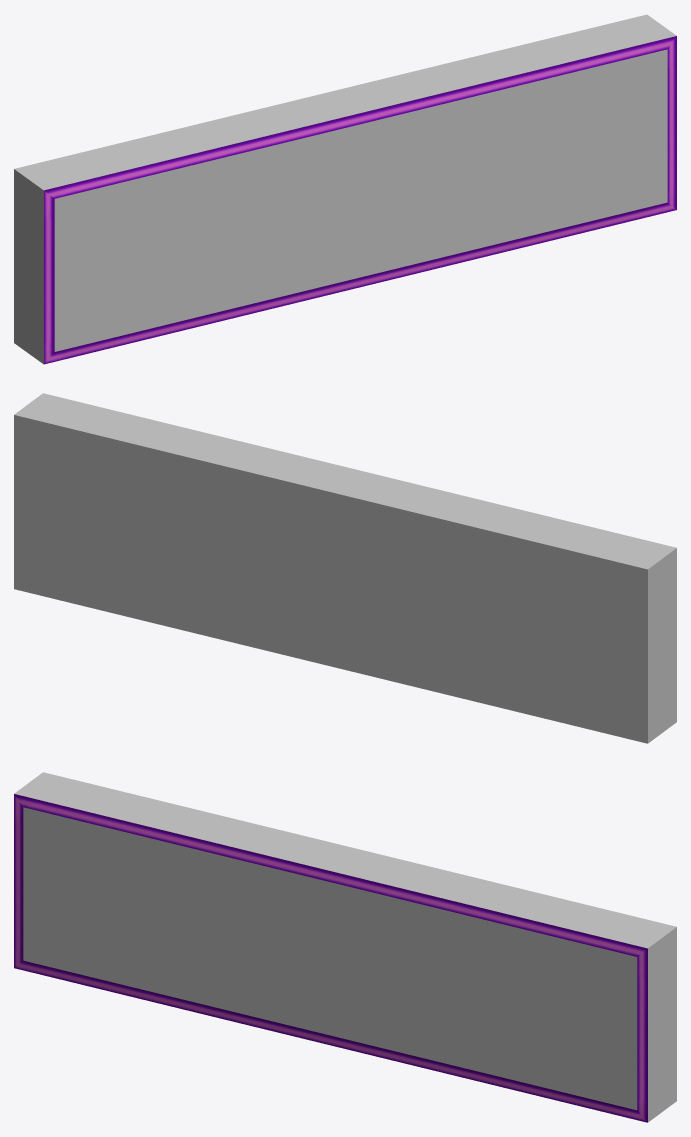
Rendered from sign_13.fbx.
3 renders of one model, top to bottom at view 1: azimuth 30°, elevation 25°; view 2: azimuth 150°, elevation 25°; view 3: azimuth 330°, elevation 25°, orthographic.
Parts seen in each view (by area): view 1: sign_13; view 2: sign_13; view 3: sign_13.
Part boxes in pixels (box(x1,y1,x2,y2)): sign_13: box(14, 14, 676, 364); sign_13: box(14, 393, 676, 743); sign_13: box(14, 772, 676, 1122).
Bounding box in the file's own units: 3.46 × 0.9092 × 0.2851.
